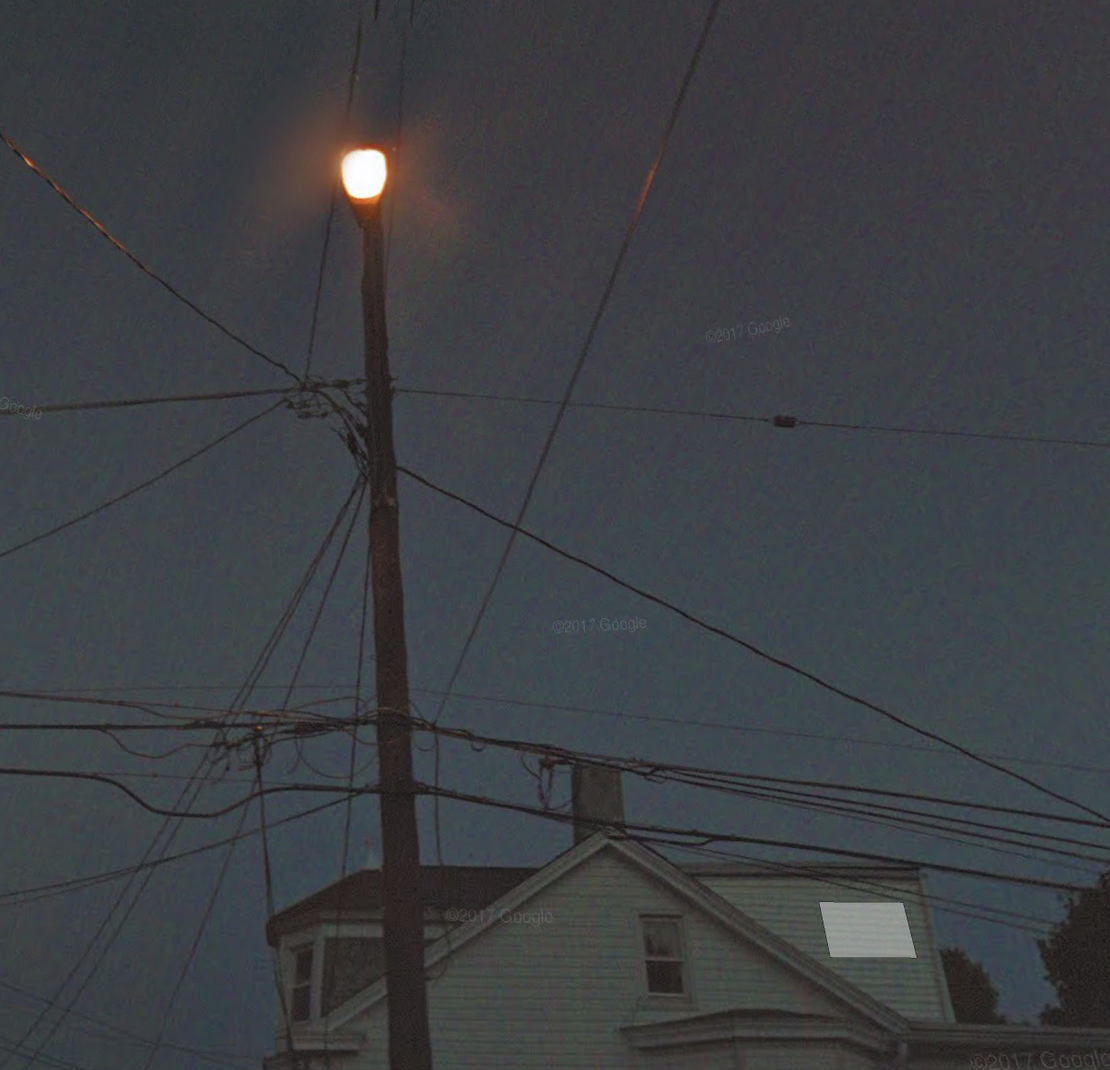HPS: (328, 146, 411, 228)
